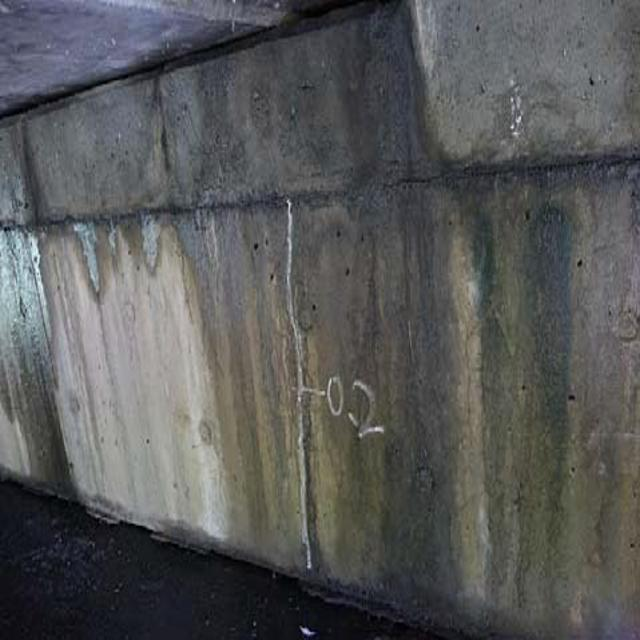leakage: (24, 19, 636, 624)
